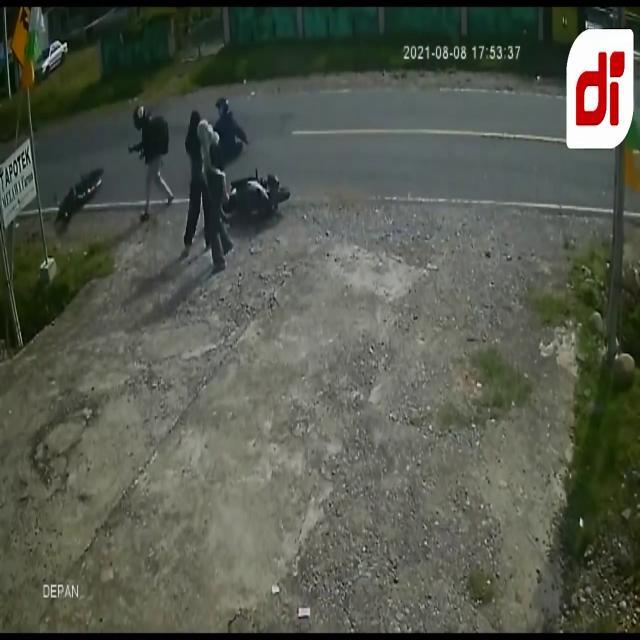multiple_accident: (43, 55, 298, 262)
